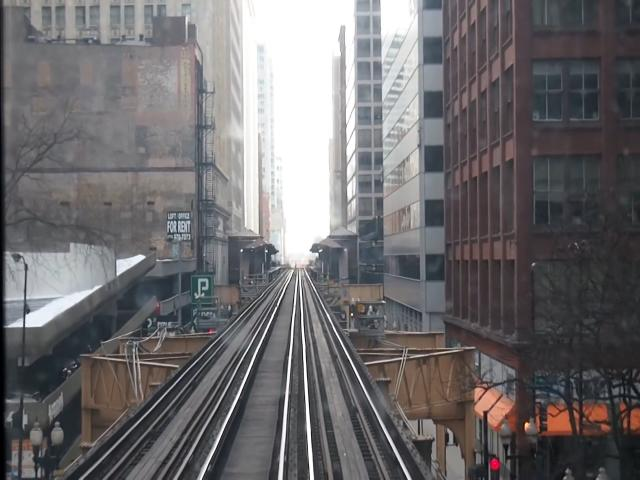signal light: (489, 456, 501, 480)
